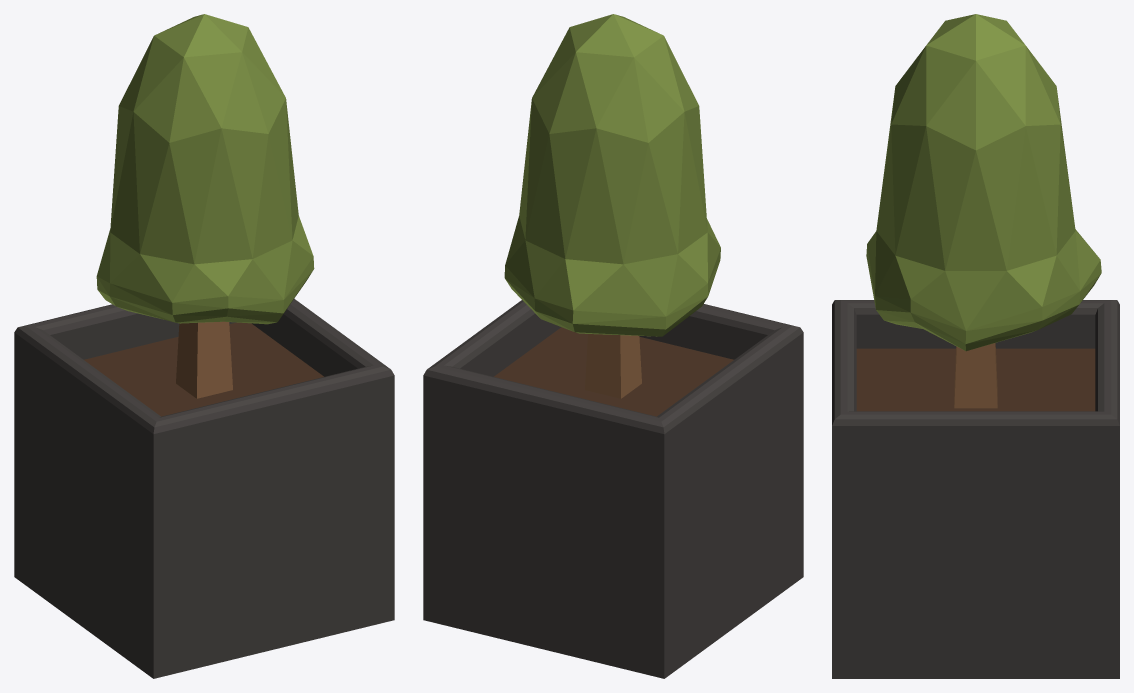
The model's file is Tree_02.fbx.
The picture shows the model from 3 angles, left to right: view 1: azimuth 30°, elevation 25°; view 2: azimuth 150°, elevation 25°; view 3: azimuth 270°, elevation 25°; orthographic projection. The views are drawn at different scales.
Parts seen in each view (by area): view 1: Tree_02; view 2: Tree_02; view 3: Tree_02.
Part boxes in pixels (x1,y1,x2,y2): Tree_02: (14, 14, 394, 678); Tree_02: (423, 14, 803, 678); Tree_02: (832, 14, 1119, 678).
Bounding box in the file's own units: 40.3 × 93.36 × 40.3.
